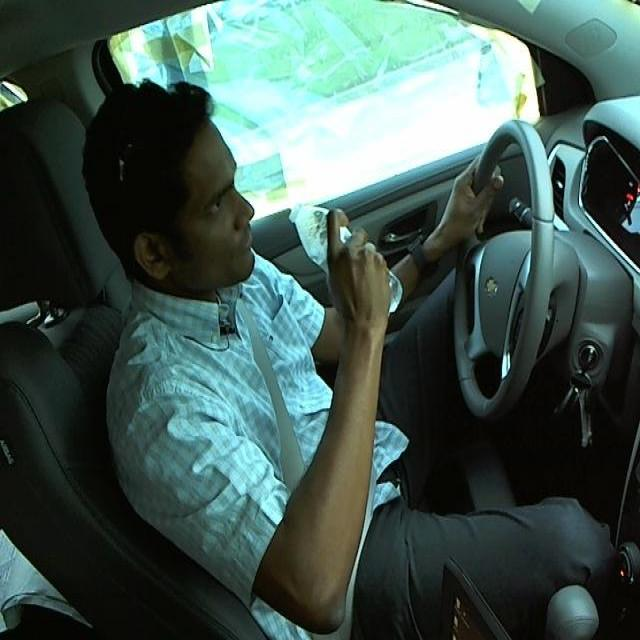drinking: (287, 194, 405, 326)
